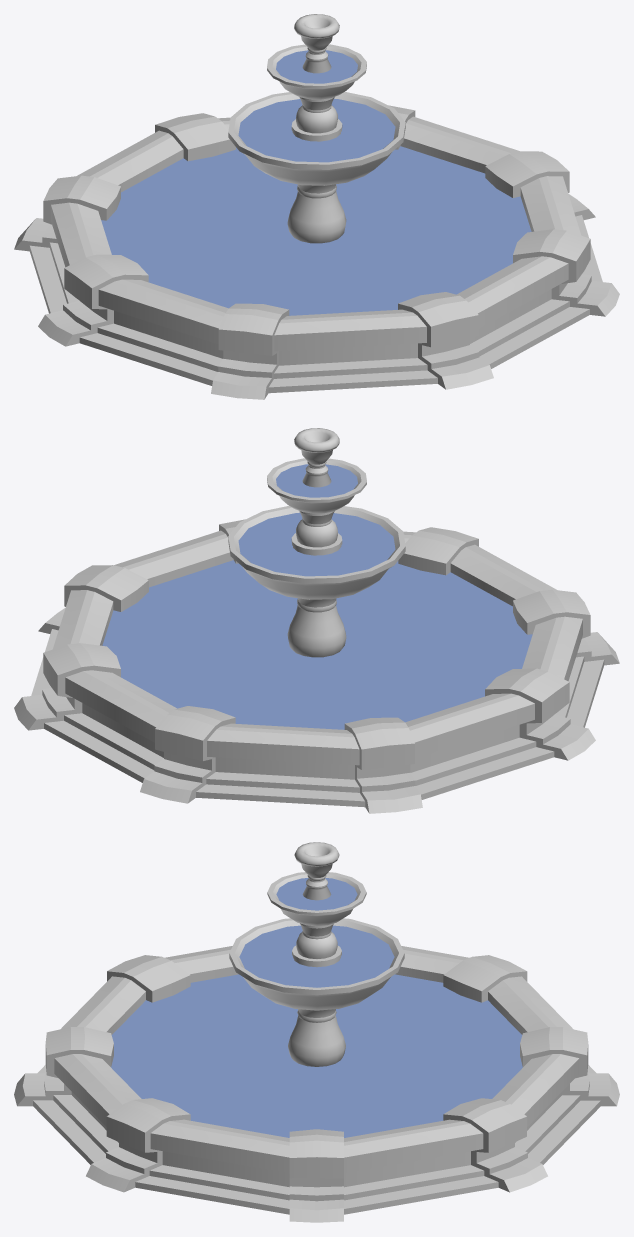
Rendered from EP_ENV_fountain.fbx.
3 views of the same model, one above another, from view 1: azimuth 30°, elevation 25°; view 2: azimuth 150°, elevation 25°; view 3: azimuth 270°, elevation 25° (orthographic). The views are drawn at different scales.
Visible parts, largest first — view 1: SM_env_fountain; view 2: SM_env_fountain; view 3: SM_env_fountain.
Boxes of the visible parts, x1,y1,x2,y2 form: SM_env_fountain: [14, 14, 619, 399]; SM_env_fountain: [14, 428, 619, 813]; SM_env_fountain: [14, 842, 619, 1222].
Bounding box in the file's own units: 622 × 278 × 622.
